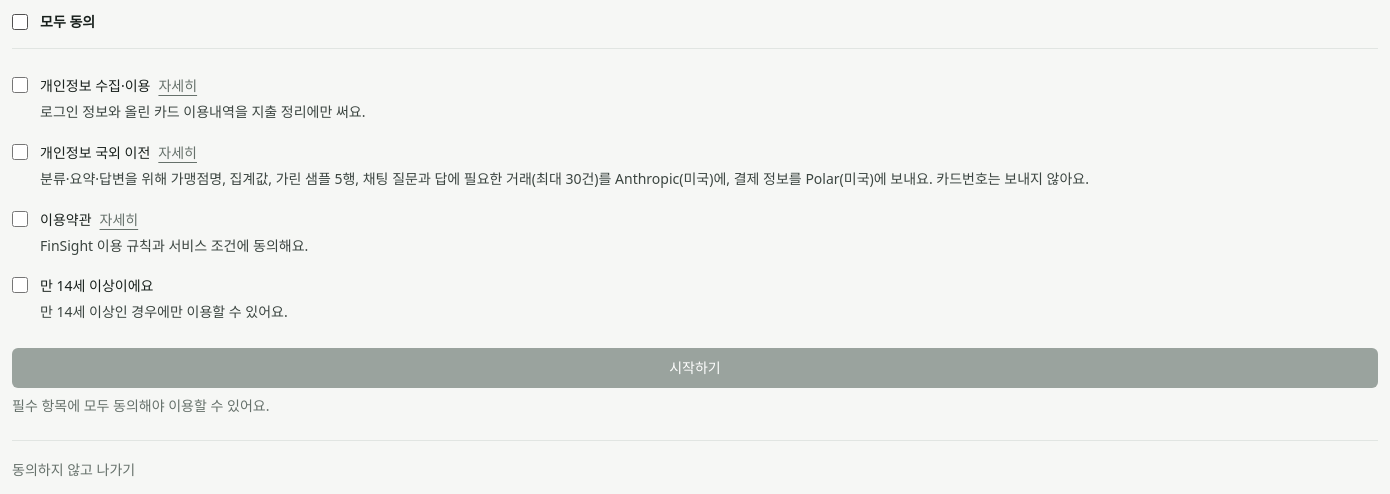
Test: ConsentForm › starts unchecked and enables submission only after individual checks
Expected: the button "시작하기" is disabled, x1=12 y1=348 x2=1378 y2=388
Expected: the text "필수 항목에 모두 동의해야 이용할 수 있어요." is shown, x1=12 y1=396 x2=269 y2=415
Step 1. Click the checkbox labelled "개인정보 수집·이용 자세히 로그인 정보와 올린 카드 이용내역을 지출 정리에만 써요." → (20, 85), box x1=12 y1=77 x2=28 y2=93
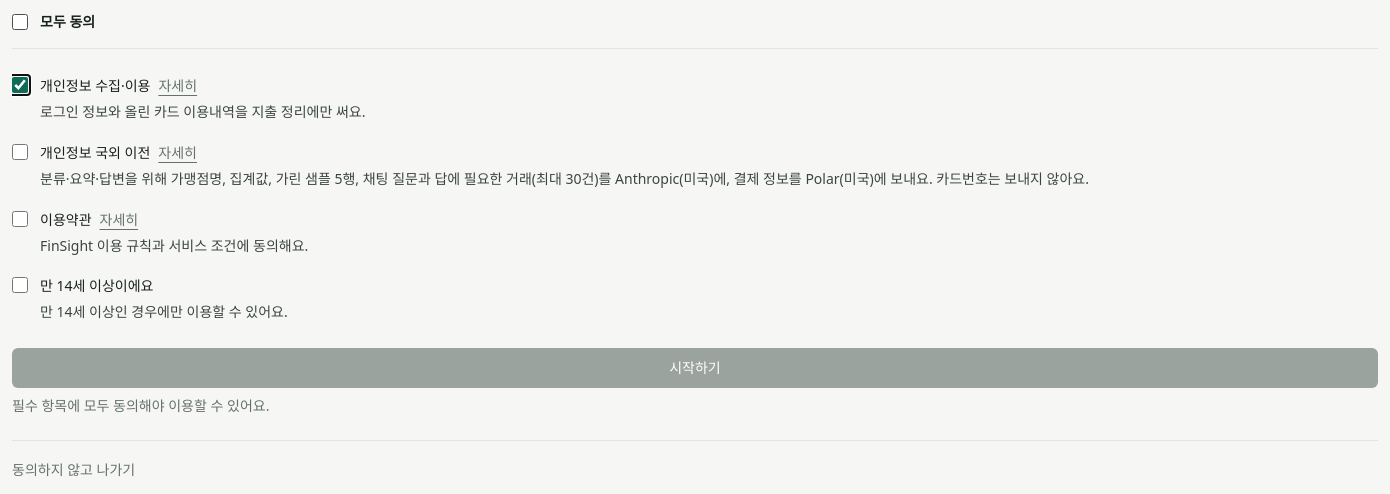
Step 2. Click the checkbox labelled "개인정보 국외 이전" → (20, 152), box x1=12 y1=144 x2=28 y2=160
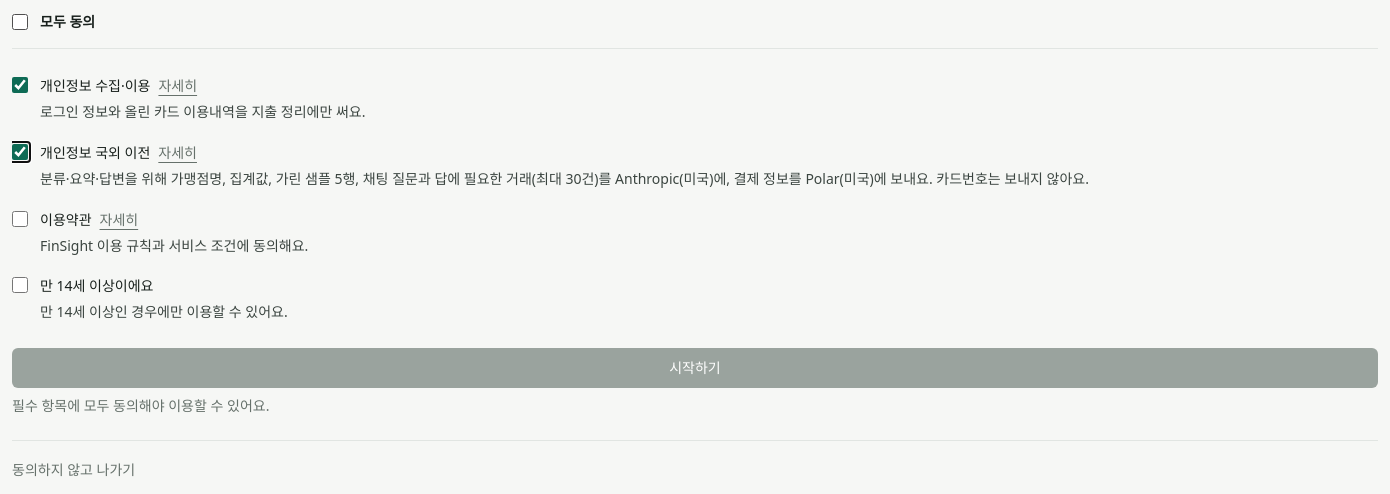
Step 3. Click the checkbox labelled "이용약관 자세히 FinSight 이용 규칙과 서비스 조건에 동의해요." → (20, 218), box x1=12 y1=210 x2=28 y2=226
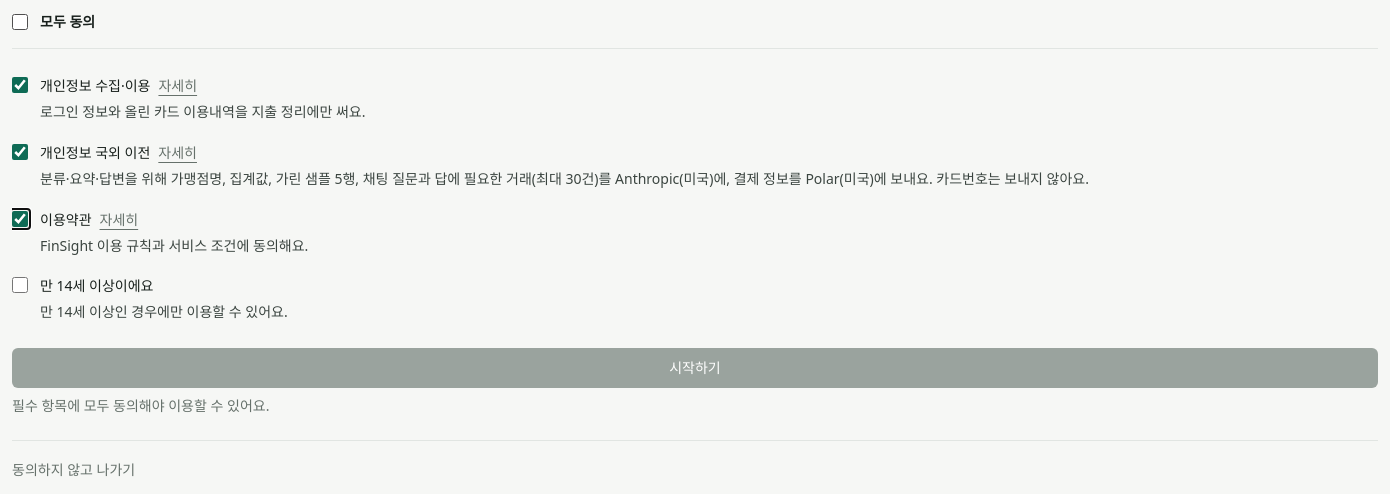
Step 4. Click the checkbox labelled "만 14세 이상이에요 만 14세 이상인 경우에만 이용할 수 있어요." → (20, 285), box x1=12 y1=277 x2=28 y2=293
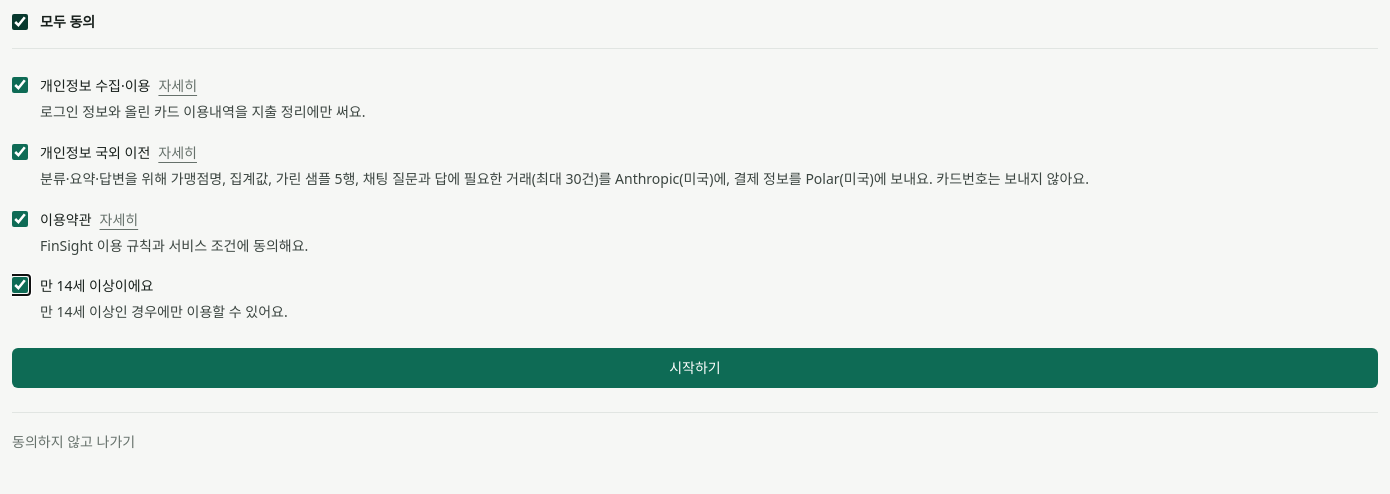
Result: the button "시작하기" is enabled at x1=12 y1=348 x2=1378 y2=388
Result: the text "필수 항목에 모두 동의해야 이용할 수 있어요." is gone
